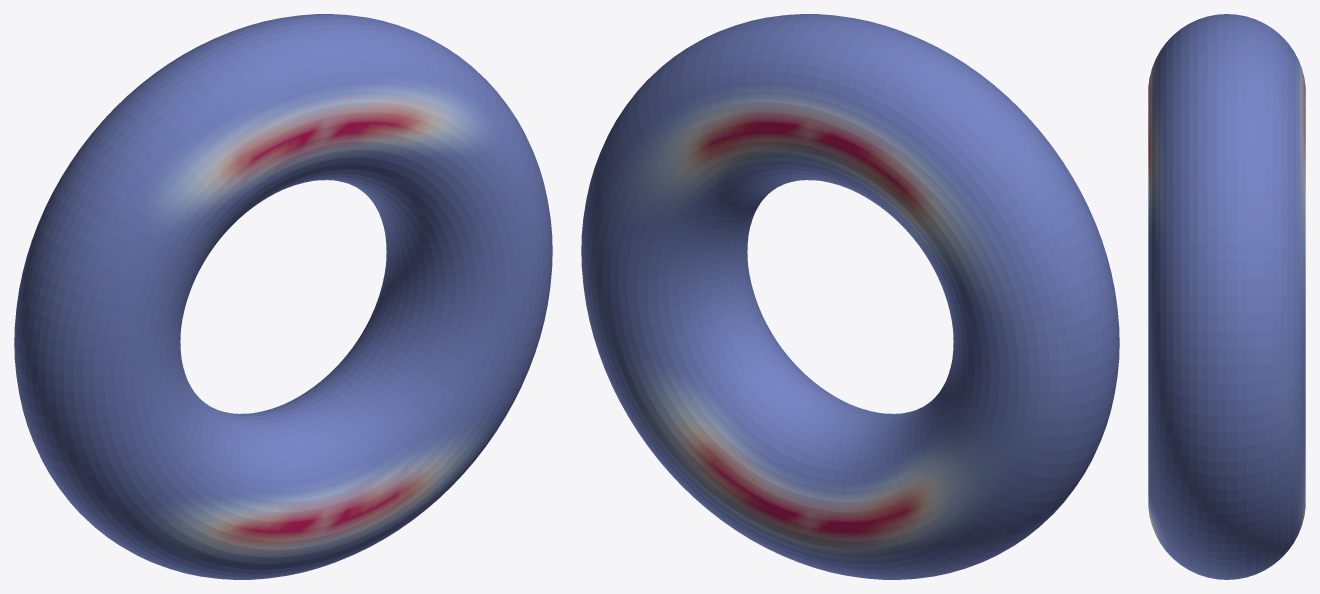
3 views of the same model, side by side, from view 1: azimuth 30°, elevation 25°; view 2: azimuth 150°, elevation 25°; view 3: azimuth 270°, elevation 25° (orthographic). The views are drawn at different scales.
Visible parts, largest first — view 1: world; view 2: world; view 3: world.
Part boxes in pixels (x1,y1,x2,y2): world: (14, 14, 552, 579); world: (581, 14, 1119, 579); world: (1148, 14, 1305, 579).
Bounding box in the file's own units: 13.87 × 13.87 × 3.86.
